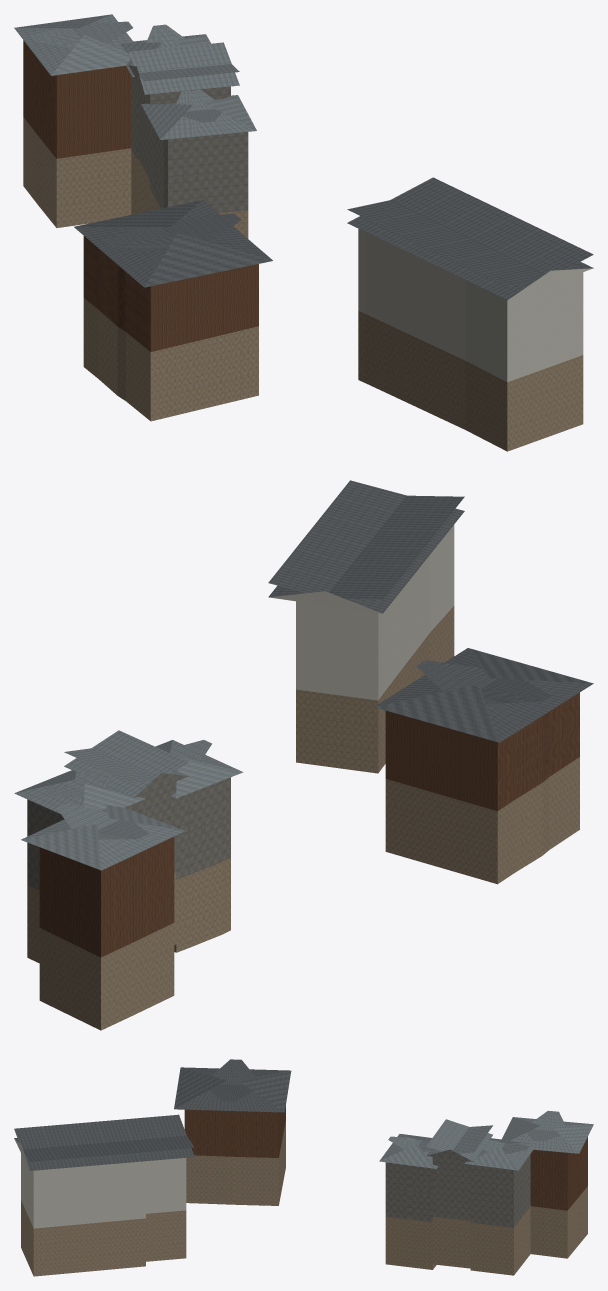
File: bld_c9_27_406.gltf
3 views of the same model, one above another, from view 1: azimuth 30°, elevation 25°; view 2: azimuth 150°, elevation 25°; view 3: azimuth 270°, elevation 25° (orthographic). The views are drawn at different scales.
Parts seen in each view (by area): view 1: bld_c9_27_406; view 2: bld_c9_27_406; view 3: bld_c9_27_406.
Part boxes in pixels (left/top/right/bottom): bld_c9_27_406: left=14, top=14, right=593, bottom=451; bld_c9_27_406: left=14, top=480, right=593, bottom=1030; bld_c9_27_406: left=14, top=1059, right=593, bottom=1276.
Bounding box in the file's own units: 26.22 × 14.1 × 55.92.
Materials: 8 (8 with a texture image).
